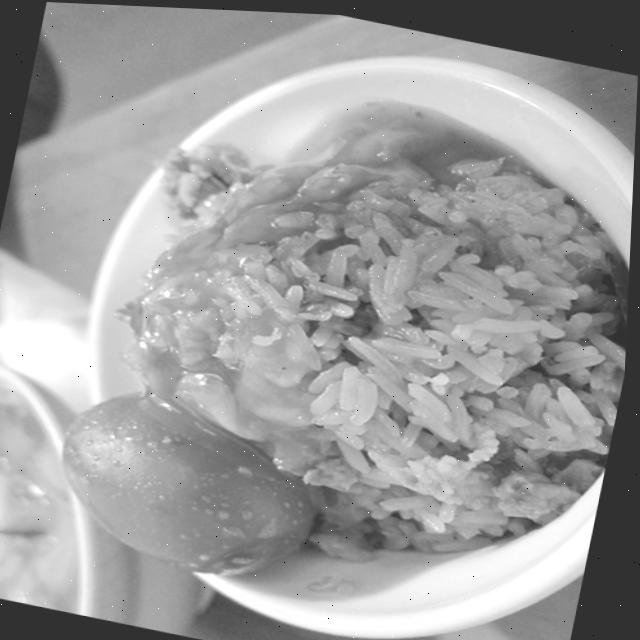米饭主食: (1, 1, 640, 640)
